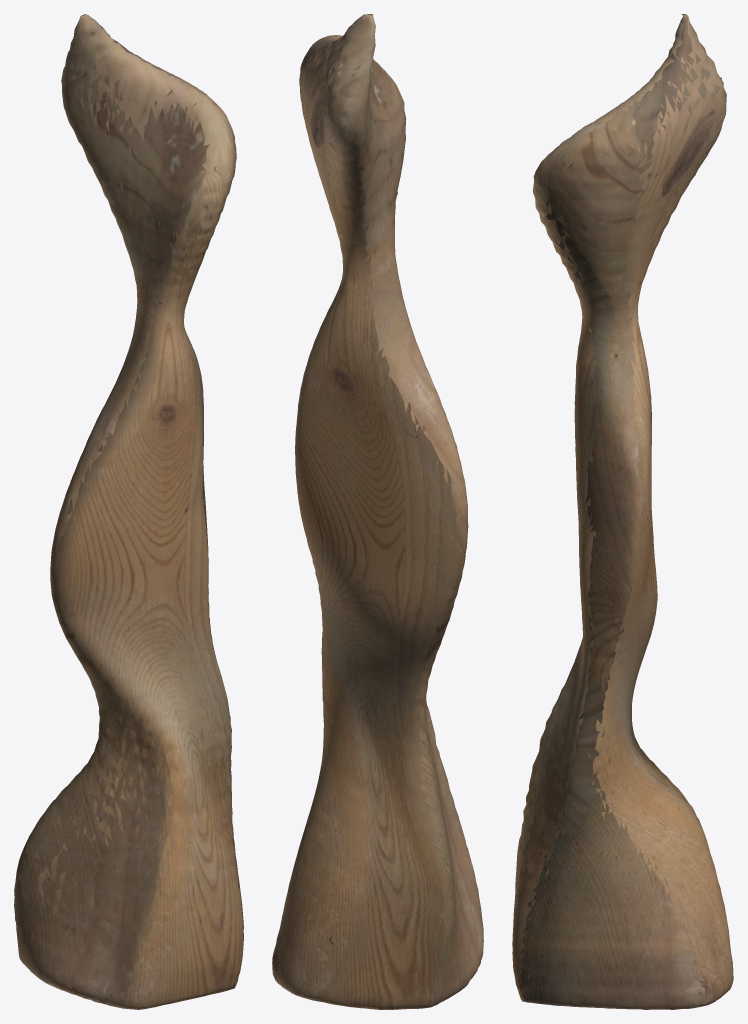
Rendered from hy3d-esc-013.glb.
3 views of the same model, side by side, from view 1: azimuth 30°, elevation 25°; view 2: azimuth 150°, elevation 25°; view 3: azimuth 270°, elevation 25° (orthographic). The views are drawn at different scales.
Visible parts, largest first — view 1: world; view 2: world; view 3: world.
Part boxes in pixels (x1,y1,x2,y2): world: [14, 14, 243, 1009]; world: [272, 14, 483, 1009]; world: [512, 14, 733, 1009].
Bounding box in the file's own units: 0.2424 × 1.26 × 0.265.
1 material, 1 textured.
